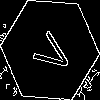V: (25, 25, 76, 78)
